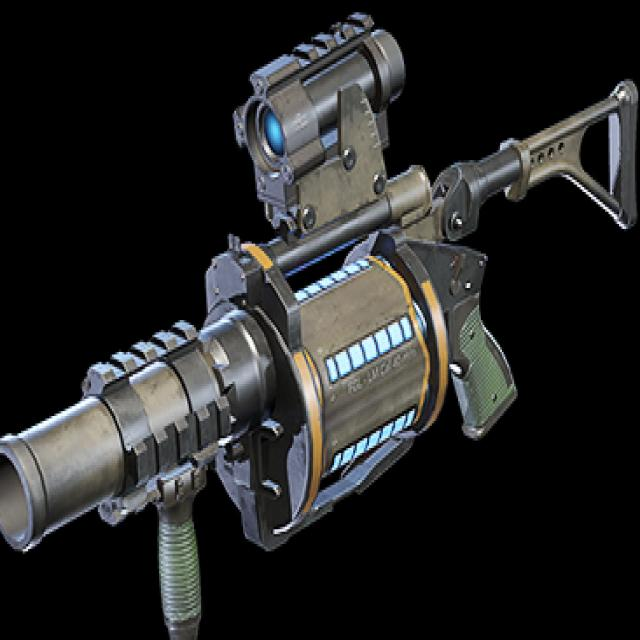Weapon: (0, 15, 637, 640)
